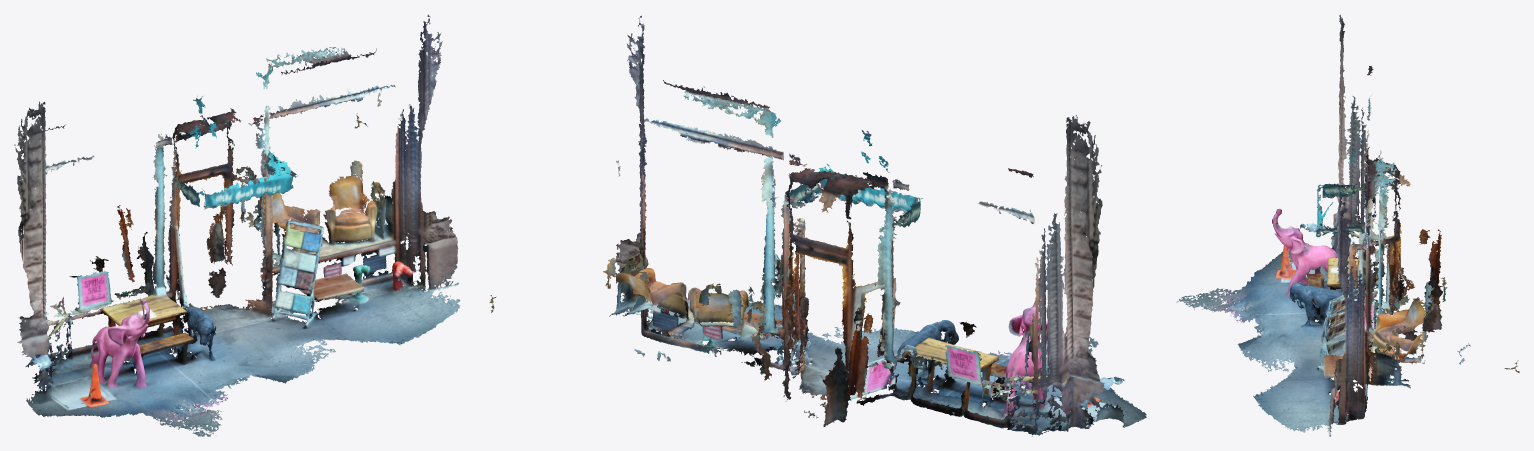
The picture shows the model from 3 angles, left to right: view 1: azimuth 30°, elevation 25°; view 2: azimuth 150°, elevation 25°; view 3: azimuth 270°, elevation 25°; orthographic projection. The views are drawn at different scales.
Visible parts, largest first — view 1: Object_3, Object_4; view 2: Object_3, Object_4; view 3: Object_3, Object_4.
Part boxes in pixels (left/top/right/bottom): Object_3: left=14, top=14, right=460, bottom=436; Object_4: left=15, top=18, right=460, bottom=436; Object_3: left=490, top=15, right=1146, bottom=436; Object_4: left=489, top=19, right=1123, bottom=434; Object_3: left=1176, top=14, right=1518, bottom=436; Object_4: left=1179, top=39, right=1519, bottom=433.
Bounding box in the file's own units: 4.41 × 2.72 × 3.29.
1 material, 1 textured.
